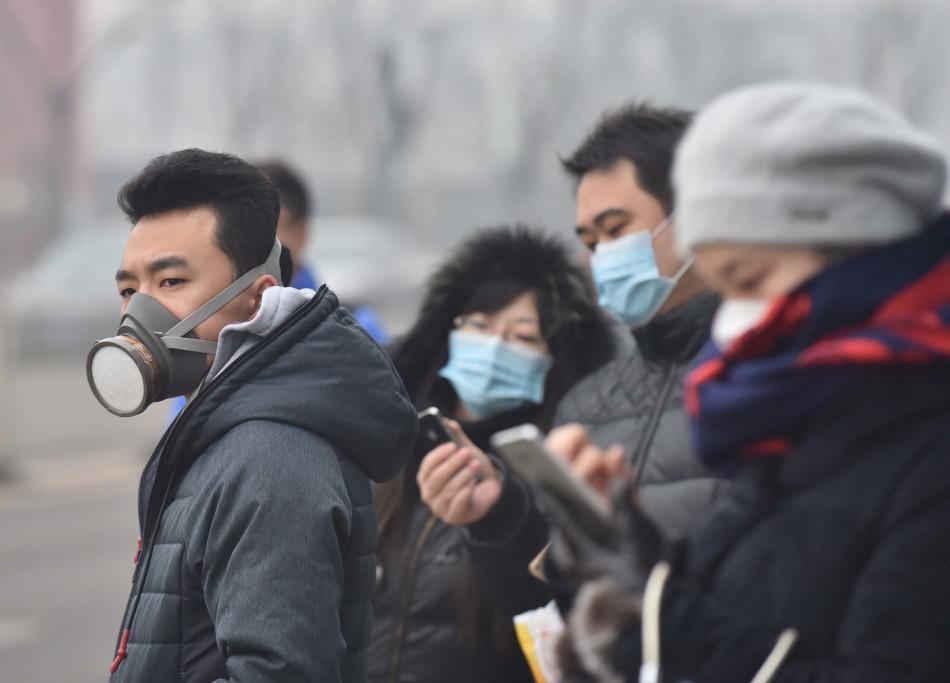OK: (710, 249, 864, 398), (112, 246, 263, 397), (575, 201, 695, 324), (452, 303, 555, 419)
